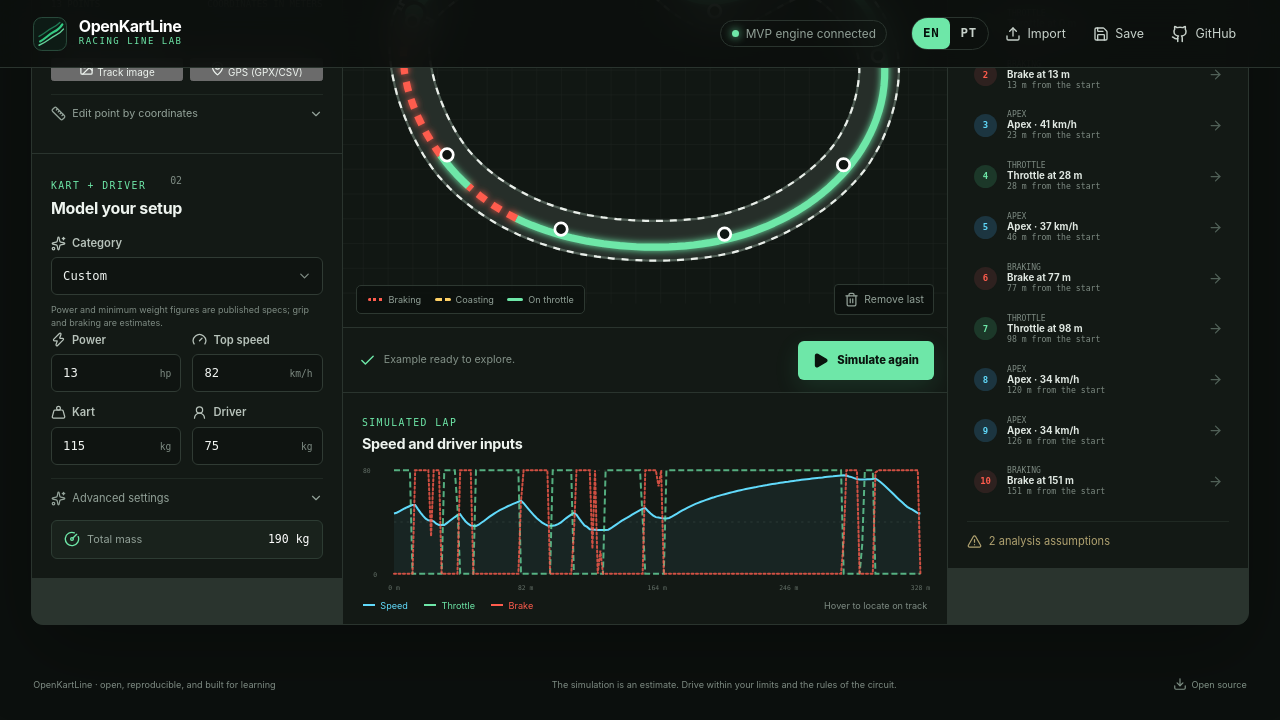
Test case: a result that lands after an edit › keeps the recalculate affordance instead of presenting a stale lap as current
(page scrolled)
Expected: the text "MVP engine connected" is shown, [720,20,887,47]
Click the button "Simulate again": (866, 360) [798,341,934,380]
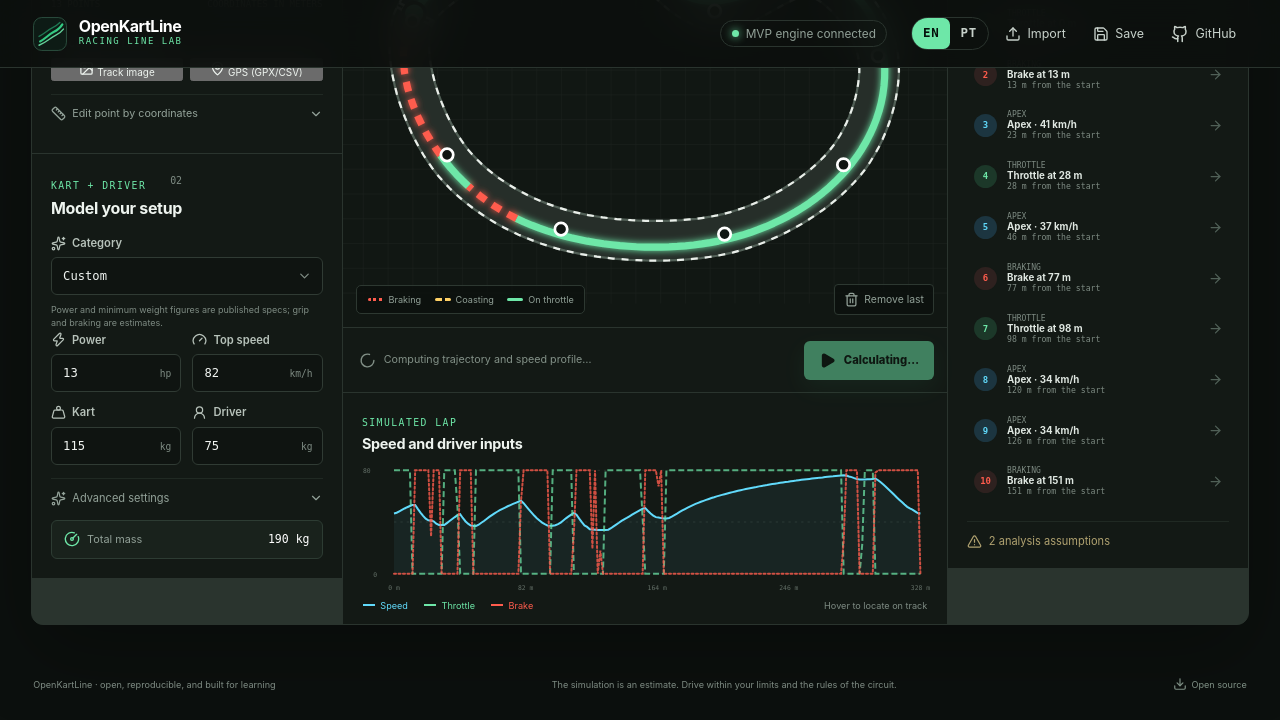
Replace the text in the number field labelled "Power hp" with "22": (116, 373) [51,354,181,392]
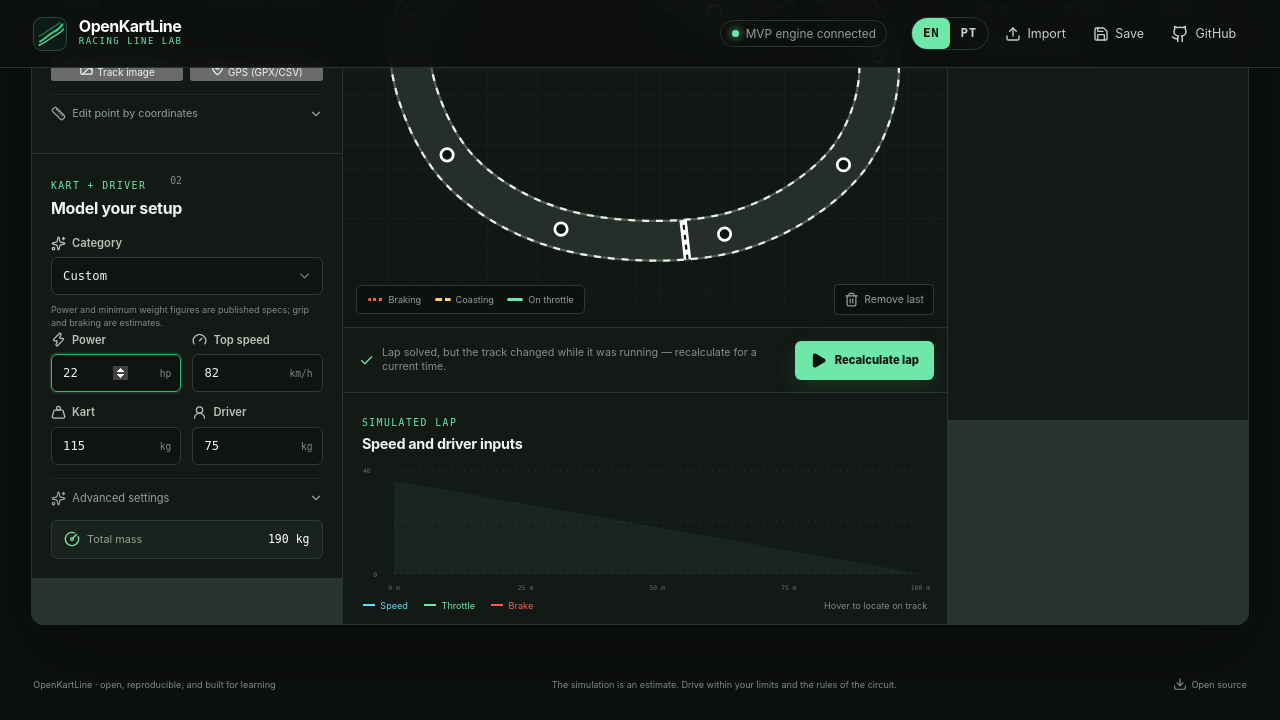
Expected: the text "the track changed while it was running" is shown, [382,346,757,373]
Expected: the button "Recalculate lap" is shown, [795,341,934,380]
